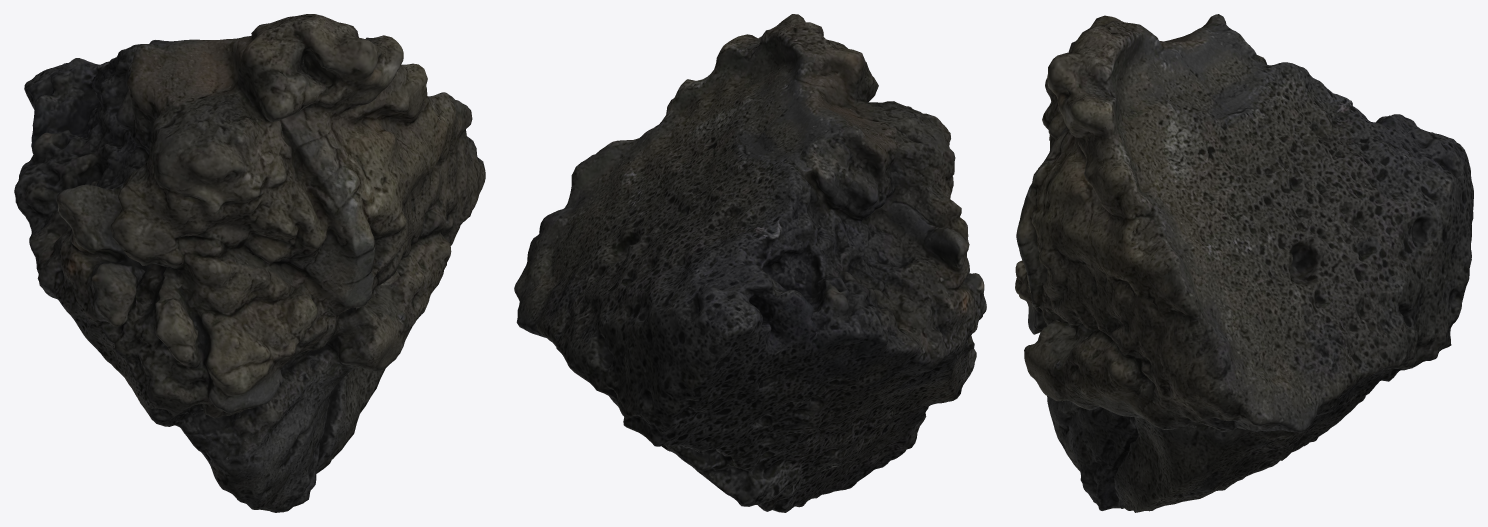
Rendered from paricutin.glb.
3 views of the same model, side by side, from view 1: azimuth 30°, elevation 25°; view 2: azimuth 150°, elevation 25°; view 3: azimuth 270°, elevation 25° (orthographic). The views are drawn at different scales.
Visible parts, largest first — view 1: Paricutin; view 2: Paricutin; view 3: Paricutin.
Boxes of the visible parts, x1=… form: Paricutin: x1=14, y1=14, x2=485, y2=512; Paricutin: x1=514, y1=14, x2=986, y2=512; Paricutin: x1=1015, y1=14, x2=1473, y2=512.
Bounding box in the file's own units: 22.93 × 23.96 × 20.37.
Materials: 1 (1 with a texture image).
